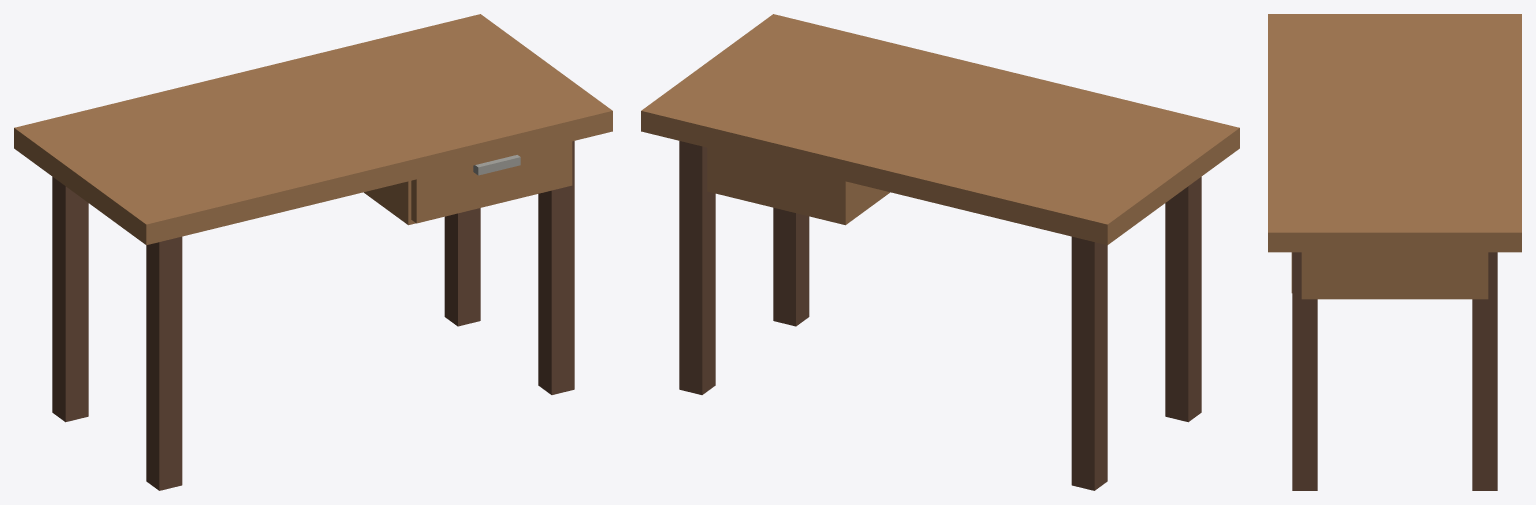
Rendered from writing_desk.glb.
The picture shows the model from 3 angles, left to right: view 1: azimuth 30°, elevation 25°; view 2: azimuth 150°, elevation 25°; view 3: azimuth 270°, elevation 25°; orthographic projection. The views are drawn at different scales.
Parts seen in each view (by area): view 1: Worktop, Leg, Leg.001, Leg.002, Drawer front, Leg.003, Drawer block; view 2: Worktop, Leg.001, Leg.003, Leg, Drawer block, Leg.002; view 3: Worktop, Drawer block, Leg.002, Leg.003.
Boxes of the visible parts, x1=… form: Worktop: x1=14, y1=14, x2=612, y2=245; Leg: x1=146, y1=236, x2=182, y2=490; Leg.001: x1=52, y1=177, x2=88, y2=422; Leg.002: x1=538, y1=141, x2=574, y2=394; Drawer front: x1=411, y1=141, x2=572, y2=223; Leg.003: x1=444, y1=208, x2=480, y2=326; Drawer block: x1=364, y1=181, x2=415, y2=225; Worktop: x1=641, y1=14, x2=1239, y2=245; Leg.001: x1=1071, y1=236, x2=1107, y2=490; Leg.003: x1=679, y1=141, x2=715, y2=394; Leg: x1=1165, y1=177, x2=1201, y2=422; Drawer block: x1=707, y1=147, x2=889, y2=225; Leg.002: x1=773, y1=207, x2=809, y2=326; Worktop: x1=1268, y1=14, x2=1521, y2=252; Drawer block: x1=1301, y1=252, x2=1488, y2=299; Leg.002: x1=1292, y1=252, x2=1317, y2=490; Leg.003: x1=1472, y1=252, x2=1497, y2=490.
Bounding box in the file's own units: 1.32 × 0.762 × 0.648.
